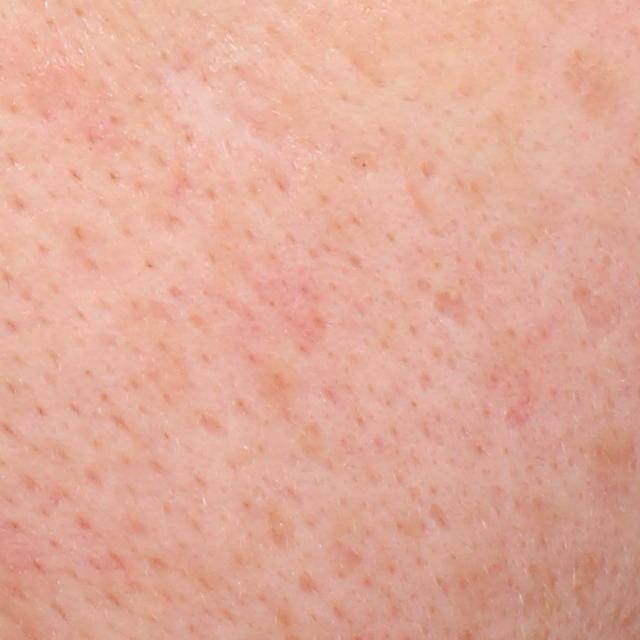atrophic_scar: (572, 283, 630, 352), (428, 287, 474, 336), (268, 502, 305, 553), (426, 497, 453, 526)
